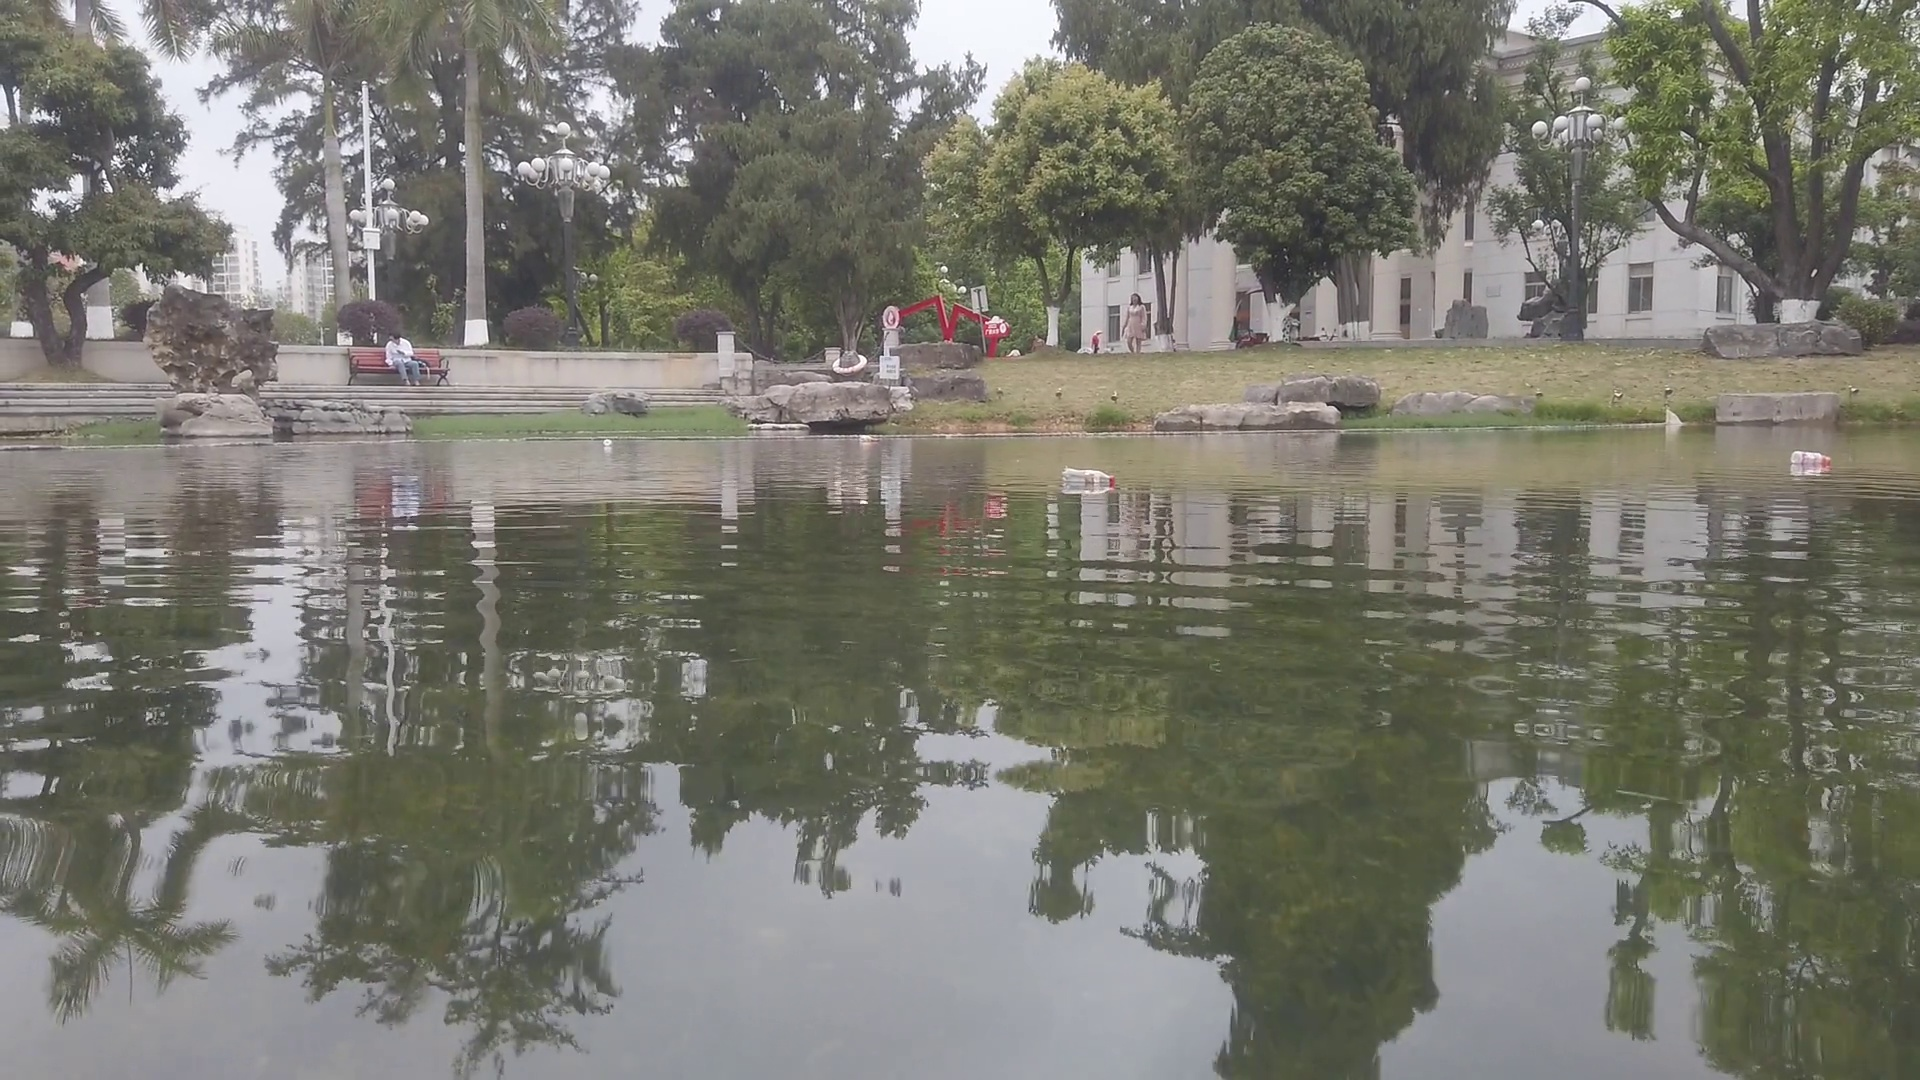bottle: (1063, 465, 1117, 489), (1789, 448, 1834, 468), (601, 436, 613, 446)
